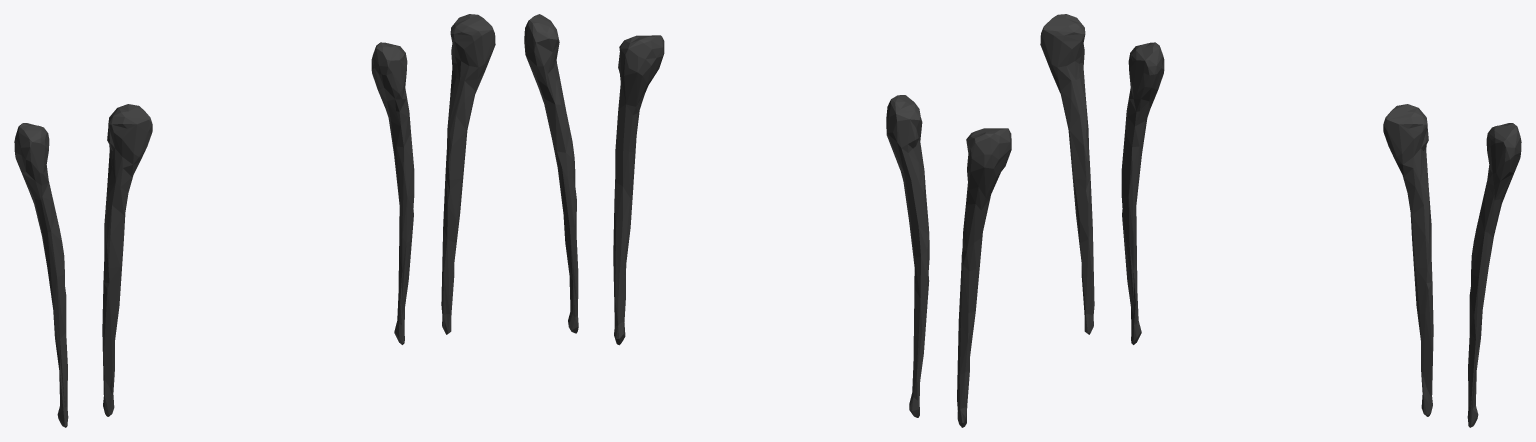
The model's file is skel_FL_splints.glb.
The picture shows the model from 3 angles, left to right: view 1: azimuth 30°, elevation 25°; view 2: azimuth 150°, elevation 25°; view 3: azimuth 330°, elevation 25°; orthographic projection.
Parts seen in each view (by area): view 1: skel_FL_splints; view 2: skel_FL_splints; view 3: skel_FL_splints.
Boxes of the visible parts, <box> form: skel_FL_splints: <box>14,14,495,427</box>; skel_FL_splints: <box>524,14,1011,427</box>; skel_FL_splints: <box>1040,14,1521,427</box>.
Size of the model in its own units: 0.0046 by 0.00285 by 0.00051.
1 material, 1 textured.
